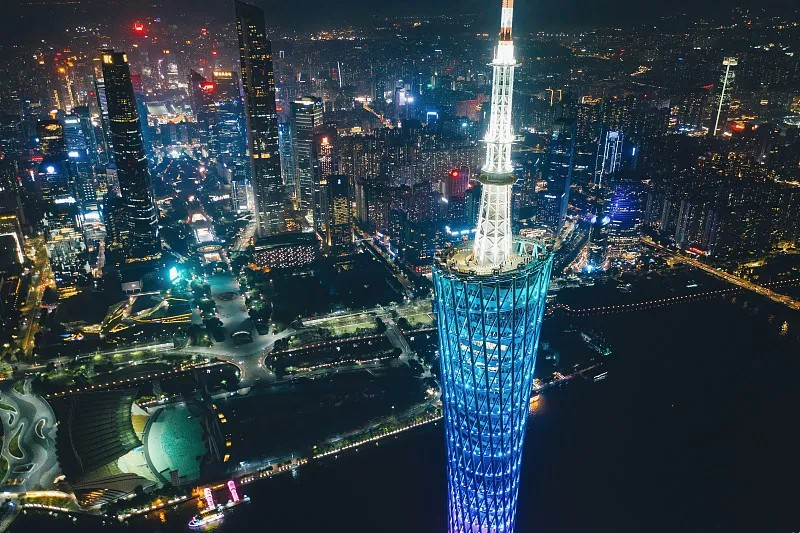Canton: (430, 1, 554, 533)
